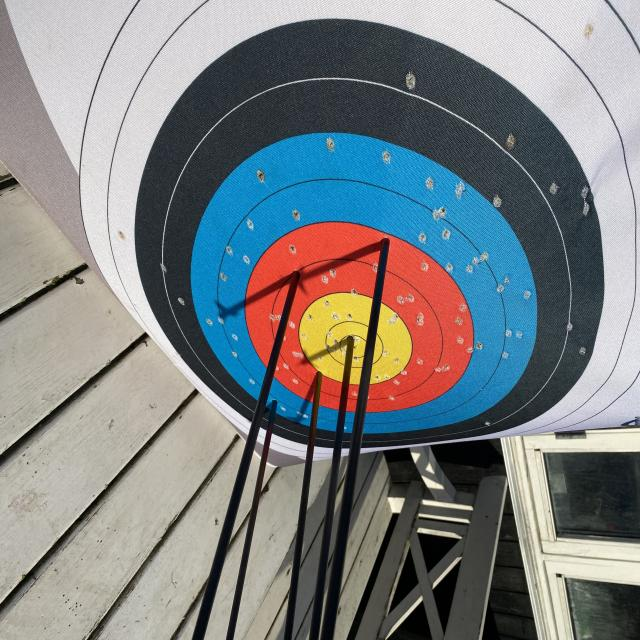Arrow_Blue: (268, 390, 290, 424)
Arrow_Red: (373, 220, 409, 275), (280, 254, 320, 298), (306, 362, 336, 397)
Arrow_Yellow: (340, 318, 362, 376)
